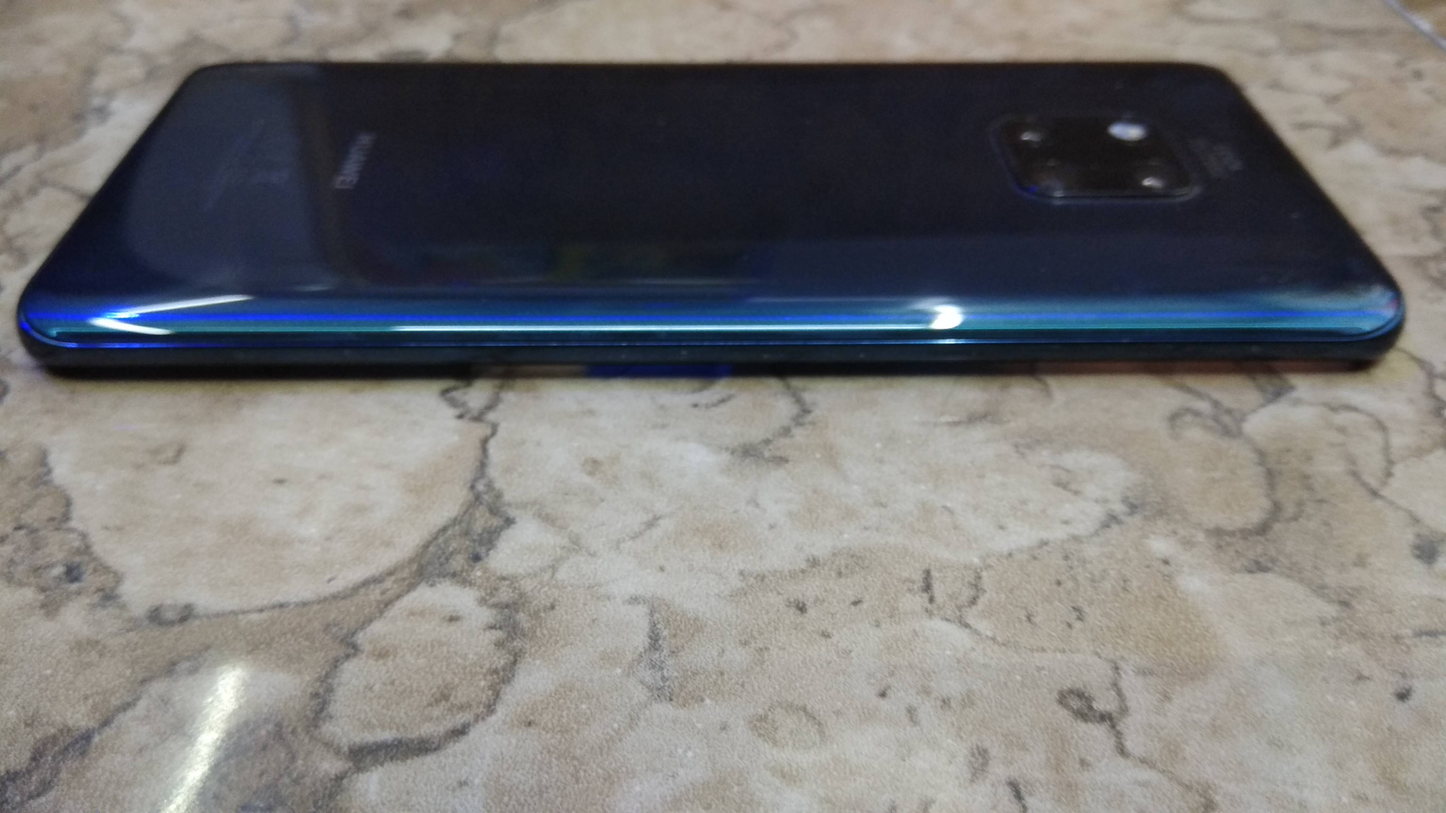Electronics: (14, 41, 1416, 406)
